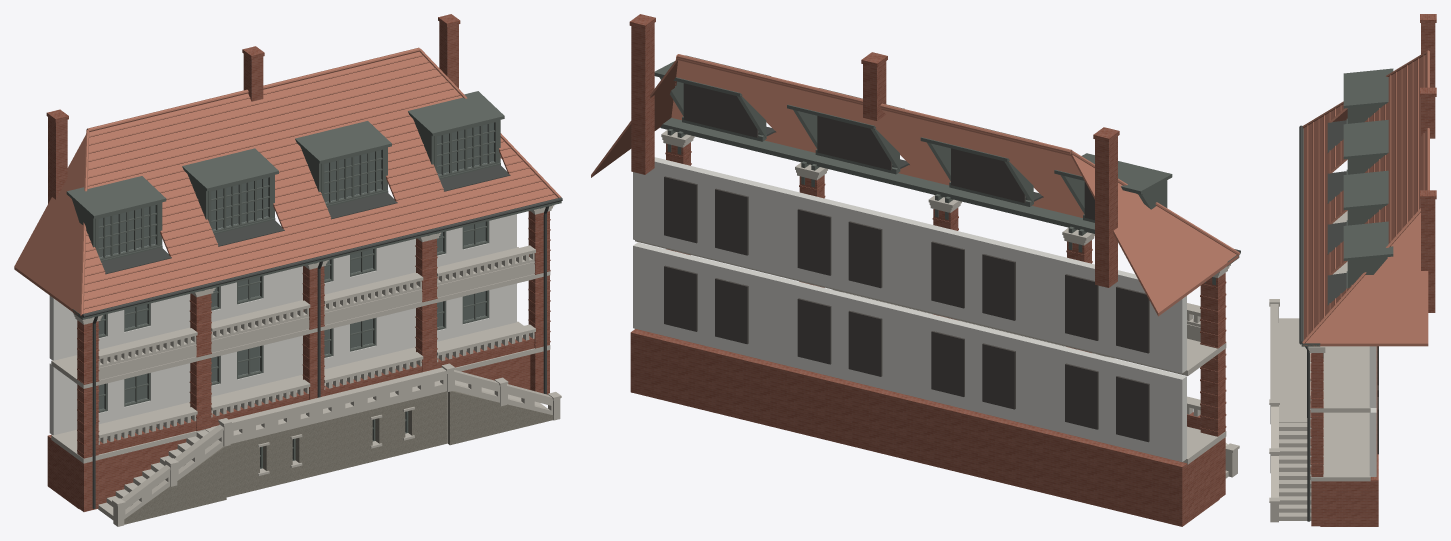
The model's file is full-source.glb.
3 views of the same model, side by side, from view 1: azimuth 30°, elevation 25°; view 2: azimuth 150°, elevation 25°; view 3: azimuth 270°, elevation 25° (orthographic). The views are drawn at different scales.
Parts seen in each view (by area): view 1: 新华村11号楼四跨院廊与坡屋面; view 2: 新华村11号楼四跨院廊与坡屋面; view 3: 新华村11号楼四跨院廊与坡屋面.
Part boxes in pixels (x1,y1,x2,y2): 新华村11号楼四跨院廊与坡屋面: (14, 14, 562, 526); 新华村11号楼四跨院廊与坡屋面: (591, 14, 1240, 526); 新华村11号楼四跨院廊与坡屋面: (1269, 14, 1436, 526).
Bounding box in the file's own units: 21.33 × 15.22 × 6.94.
Materials: 9 (2 with a texture image).
